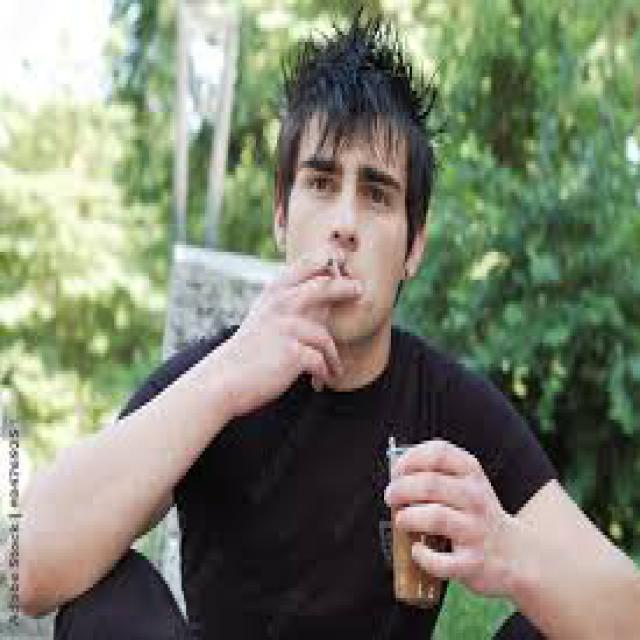smoking: (278, 253, 380, 309)
